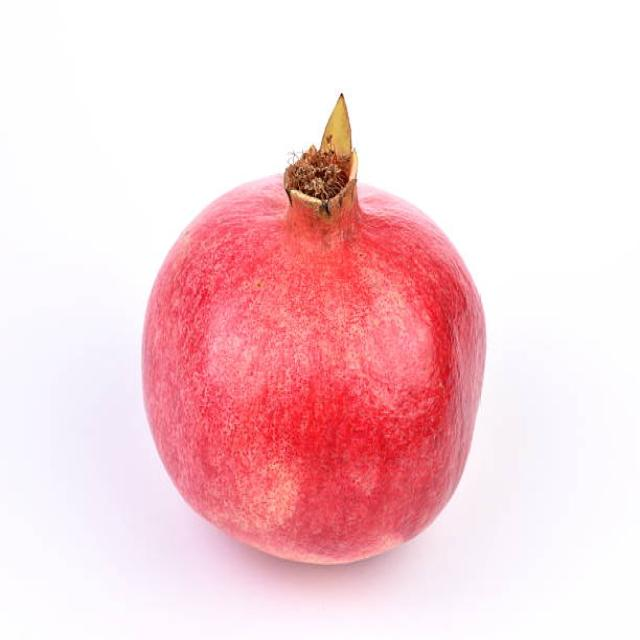Ripe: (138, 82, 492, 567)
